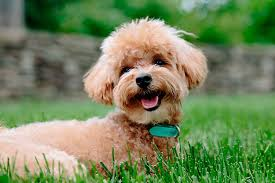dog: (1, 14, 209, 183)
